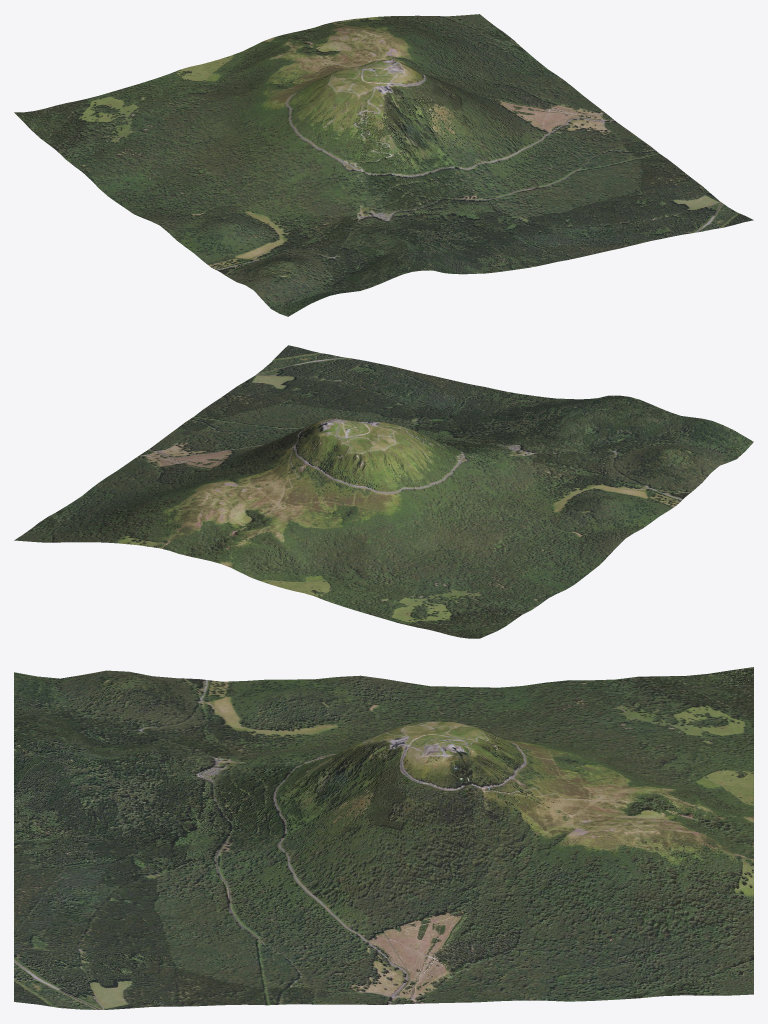
Rendered from puy_de_dome.glb.
3 views of the same model, one above another, from view 1: azimuth 30°, elevation 25°; view 2: azimuth 150°, elevation 25°; view 3: azimuth 270°, elevation 25° (orthographic). The views are drawn at different scales.
Parts seen in each view (by area): view 1: TerrainNode_0; view 2: TerrainNode_0; view 3: TerrainNode_0.
Part boxes in pixels (bbox=[...]): TerrainNode_0: bbox=[14, 14, 753, 316]; TerrainNode_0: bbox=[14, 345, 753, 638]; TerrainNode_0: bbox=[14, 667, 753, 1009].
Bounding box in the file's own units: 4174 × 824 × 4256.
1 material, 1 textured.
